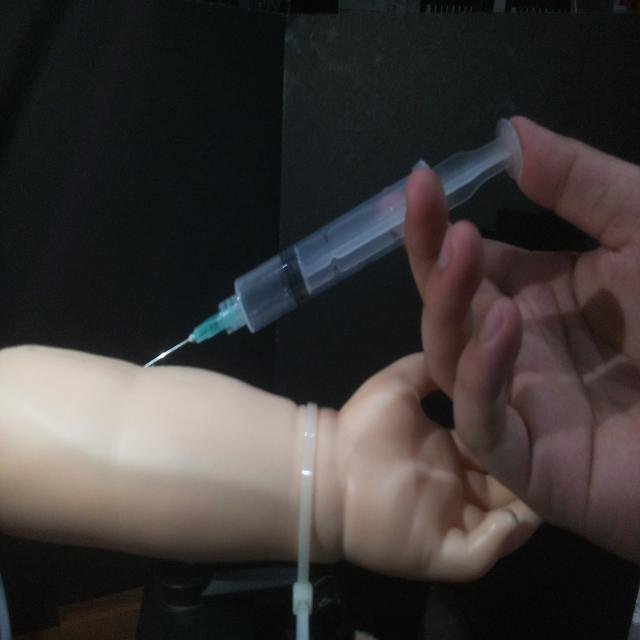27deg: (139, 113, 526, 370)
